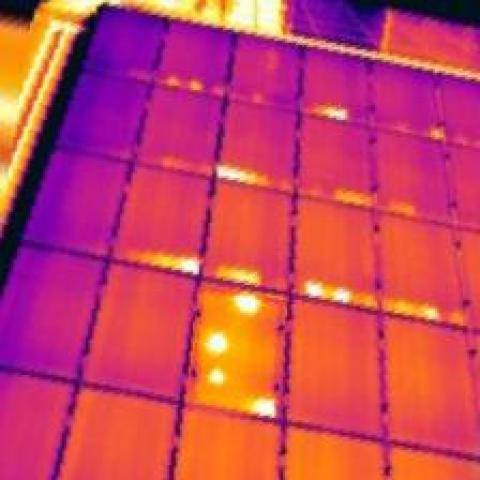fault: (214, 156, 287, 191), (125, 244, 200, 276), (392, 300, 463, 326), (302, 98, 360, 126), (212, 259, 264, 287), (161, 150, 214, 176), (240, 390, 283, 422), (328, 184, 377, 210), (230, 285, 262, 317), (200, 326, 232, 356), (390, 195, 422, 223), (202, 362, 230, 388), (352, 287, 377, 315), (300, 274, 326, 298), (422, 122, 448, 144), (184, 75, 206, 99), (330, 281, 351, 306), (161, 71, 180, 90)
